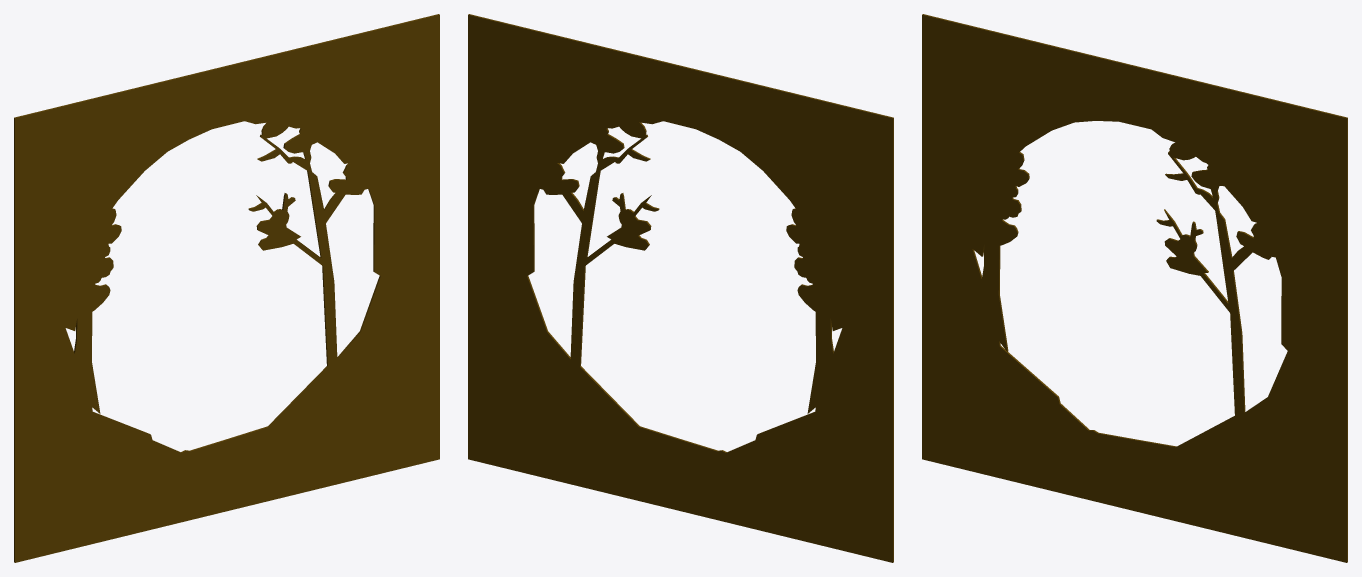
File: Autumn_A_3.fbx
3 views of the same model, side by side, from view 1: azimuth 30°, elevation 25°; view 2: azimuth 150°, elevation 25°; view 3: azimuth 330°, elevation 25° (orthographic).
Visible parts, largest first — view 1: fall3a; view 2: fall3a; view 3: fall3a.
Part boxes in pixels (x1,y1,x2,y2): fall3a: (14, 14, 439, 562); fall3a: (468, 14, 893, 562); fall3a: (922, 14, 1347, 562).
Bounding box in the file's own units: 10.12 × 10.12 × 0.0463.
